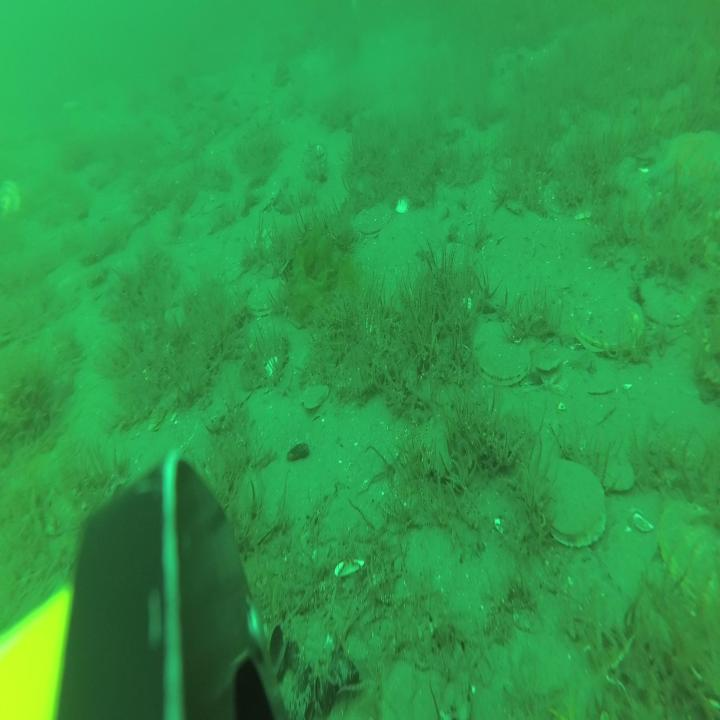scallop: (660, 495, 720, 613), (537, 456, 604, 548), (571, 298, 641, 356), (473, 324, 531, 386), (641, 277, 699, 329), (248, 274, 286, 316), (354, 203, 394, 239), (604, 450, 635, 494), (300, 380, 330, 412), (0, 177, 22, 218), (537, 351, 561, 374)
starfish: (652, 130, 720, 193)
